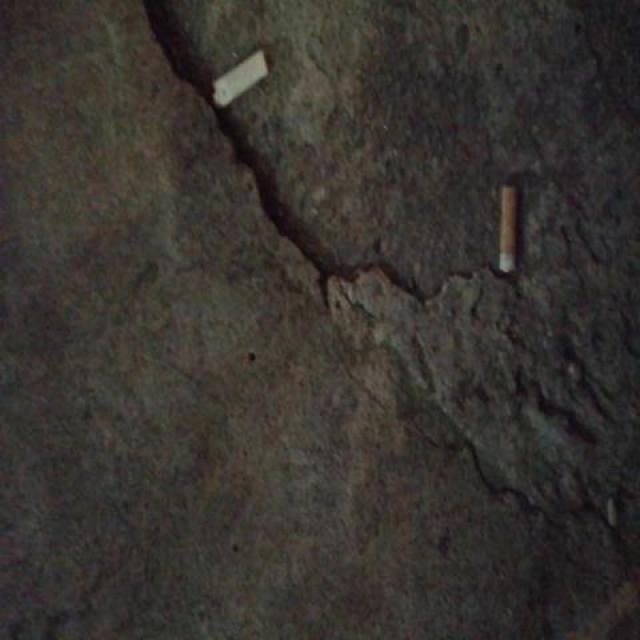non-organic waste: (208, 44, 272, 116), (496, 180, 524, 277)
